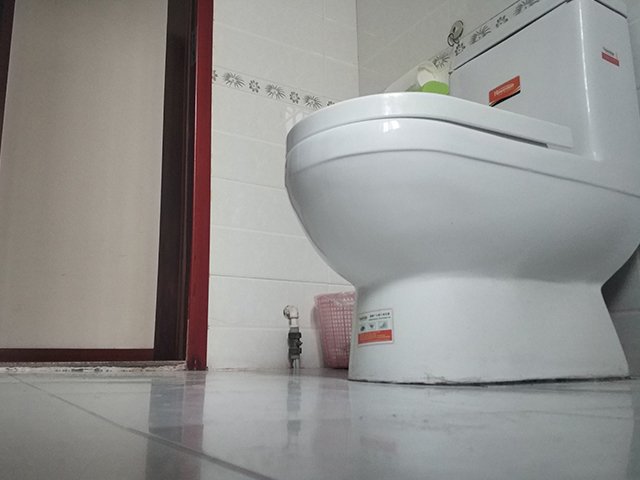carpet: (1, 359, 187, 375)
closestool: (280, 1, 640, 385)
trashcan: (312, 289, 355, 370)
